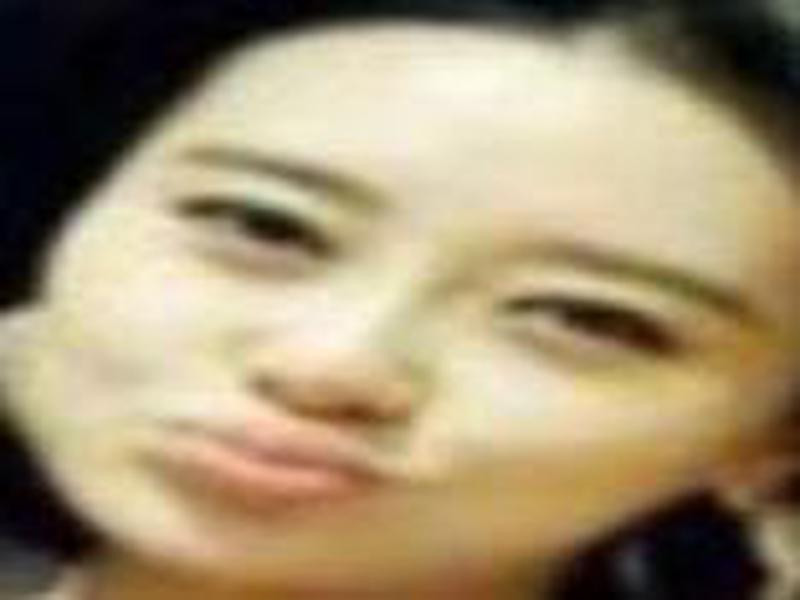without_mask: (19, 23, 800, 600)
